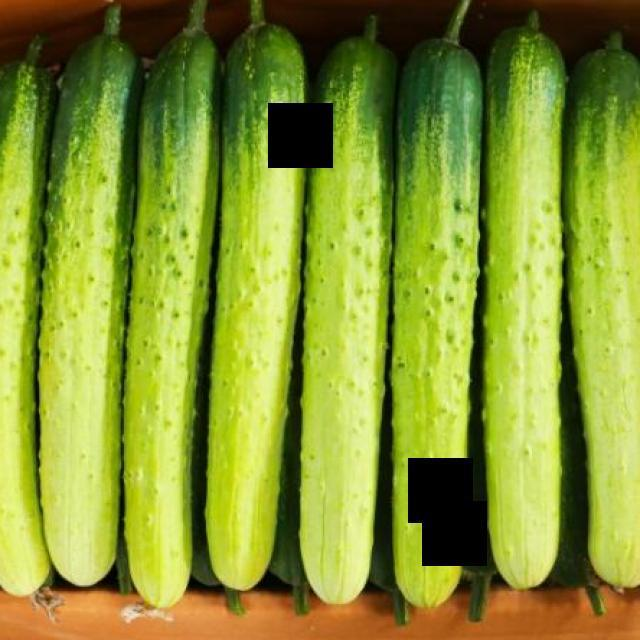cucumber: (0, 0, 640, 618), (230, 0, 328, 618), (394, 8, 488, 634), (48, 10, 137, 636), (562, 0, 640, 640)
